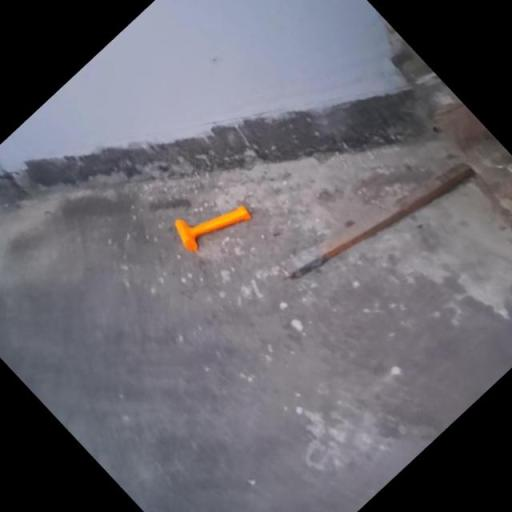mallet: (166, 178, 261, 272)
